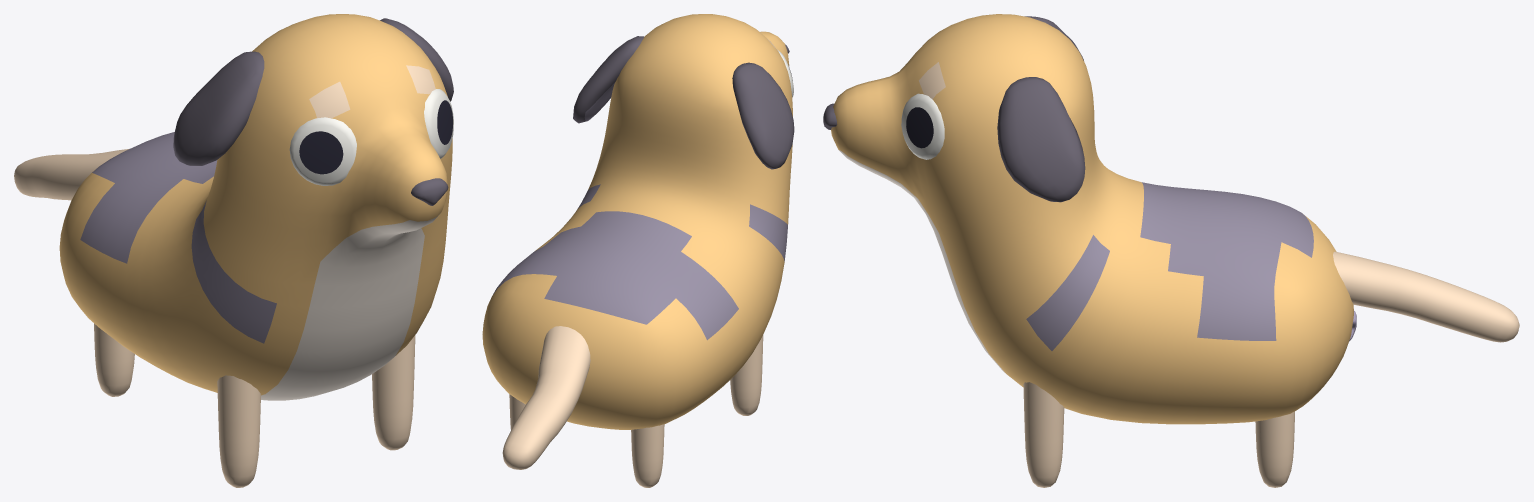
Rendered from Dog_LOD0.obj.
The picture shows the model from 3 angles, left to right: view 1: azimuth 30°, elevation 25°; view 2: azimuth 150°, elevation 25°; view 3: azimuth 270°, elevation 25°; orthographic projection. The views are drawn at different scales.
Visible parts, largest first — view 1: Dog_Cube.001; view 2: Dog_Cube.001; view 3: Dog_Cube.001.
Part boxes in pixels (<box>): Dog_Cube.001: <box>14,14,453,487</box>; Dog_Cube.001: <box>482,14,794,487</box>; Dog_Cube.001: <box>823,14,1519,487</box>.
Size of the model in its own units: 1.29 by 2.05 by 3.03.
